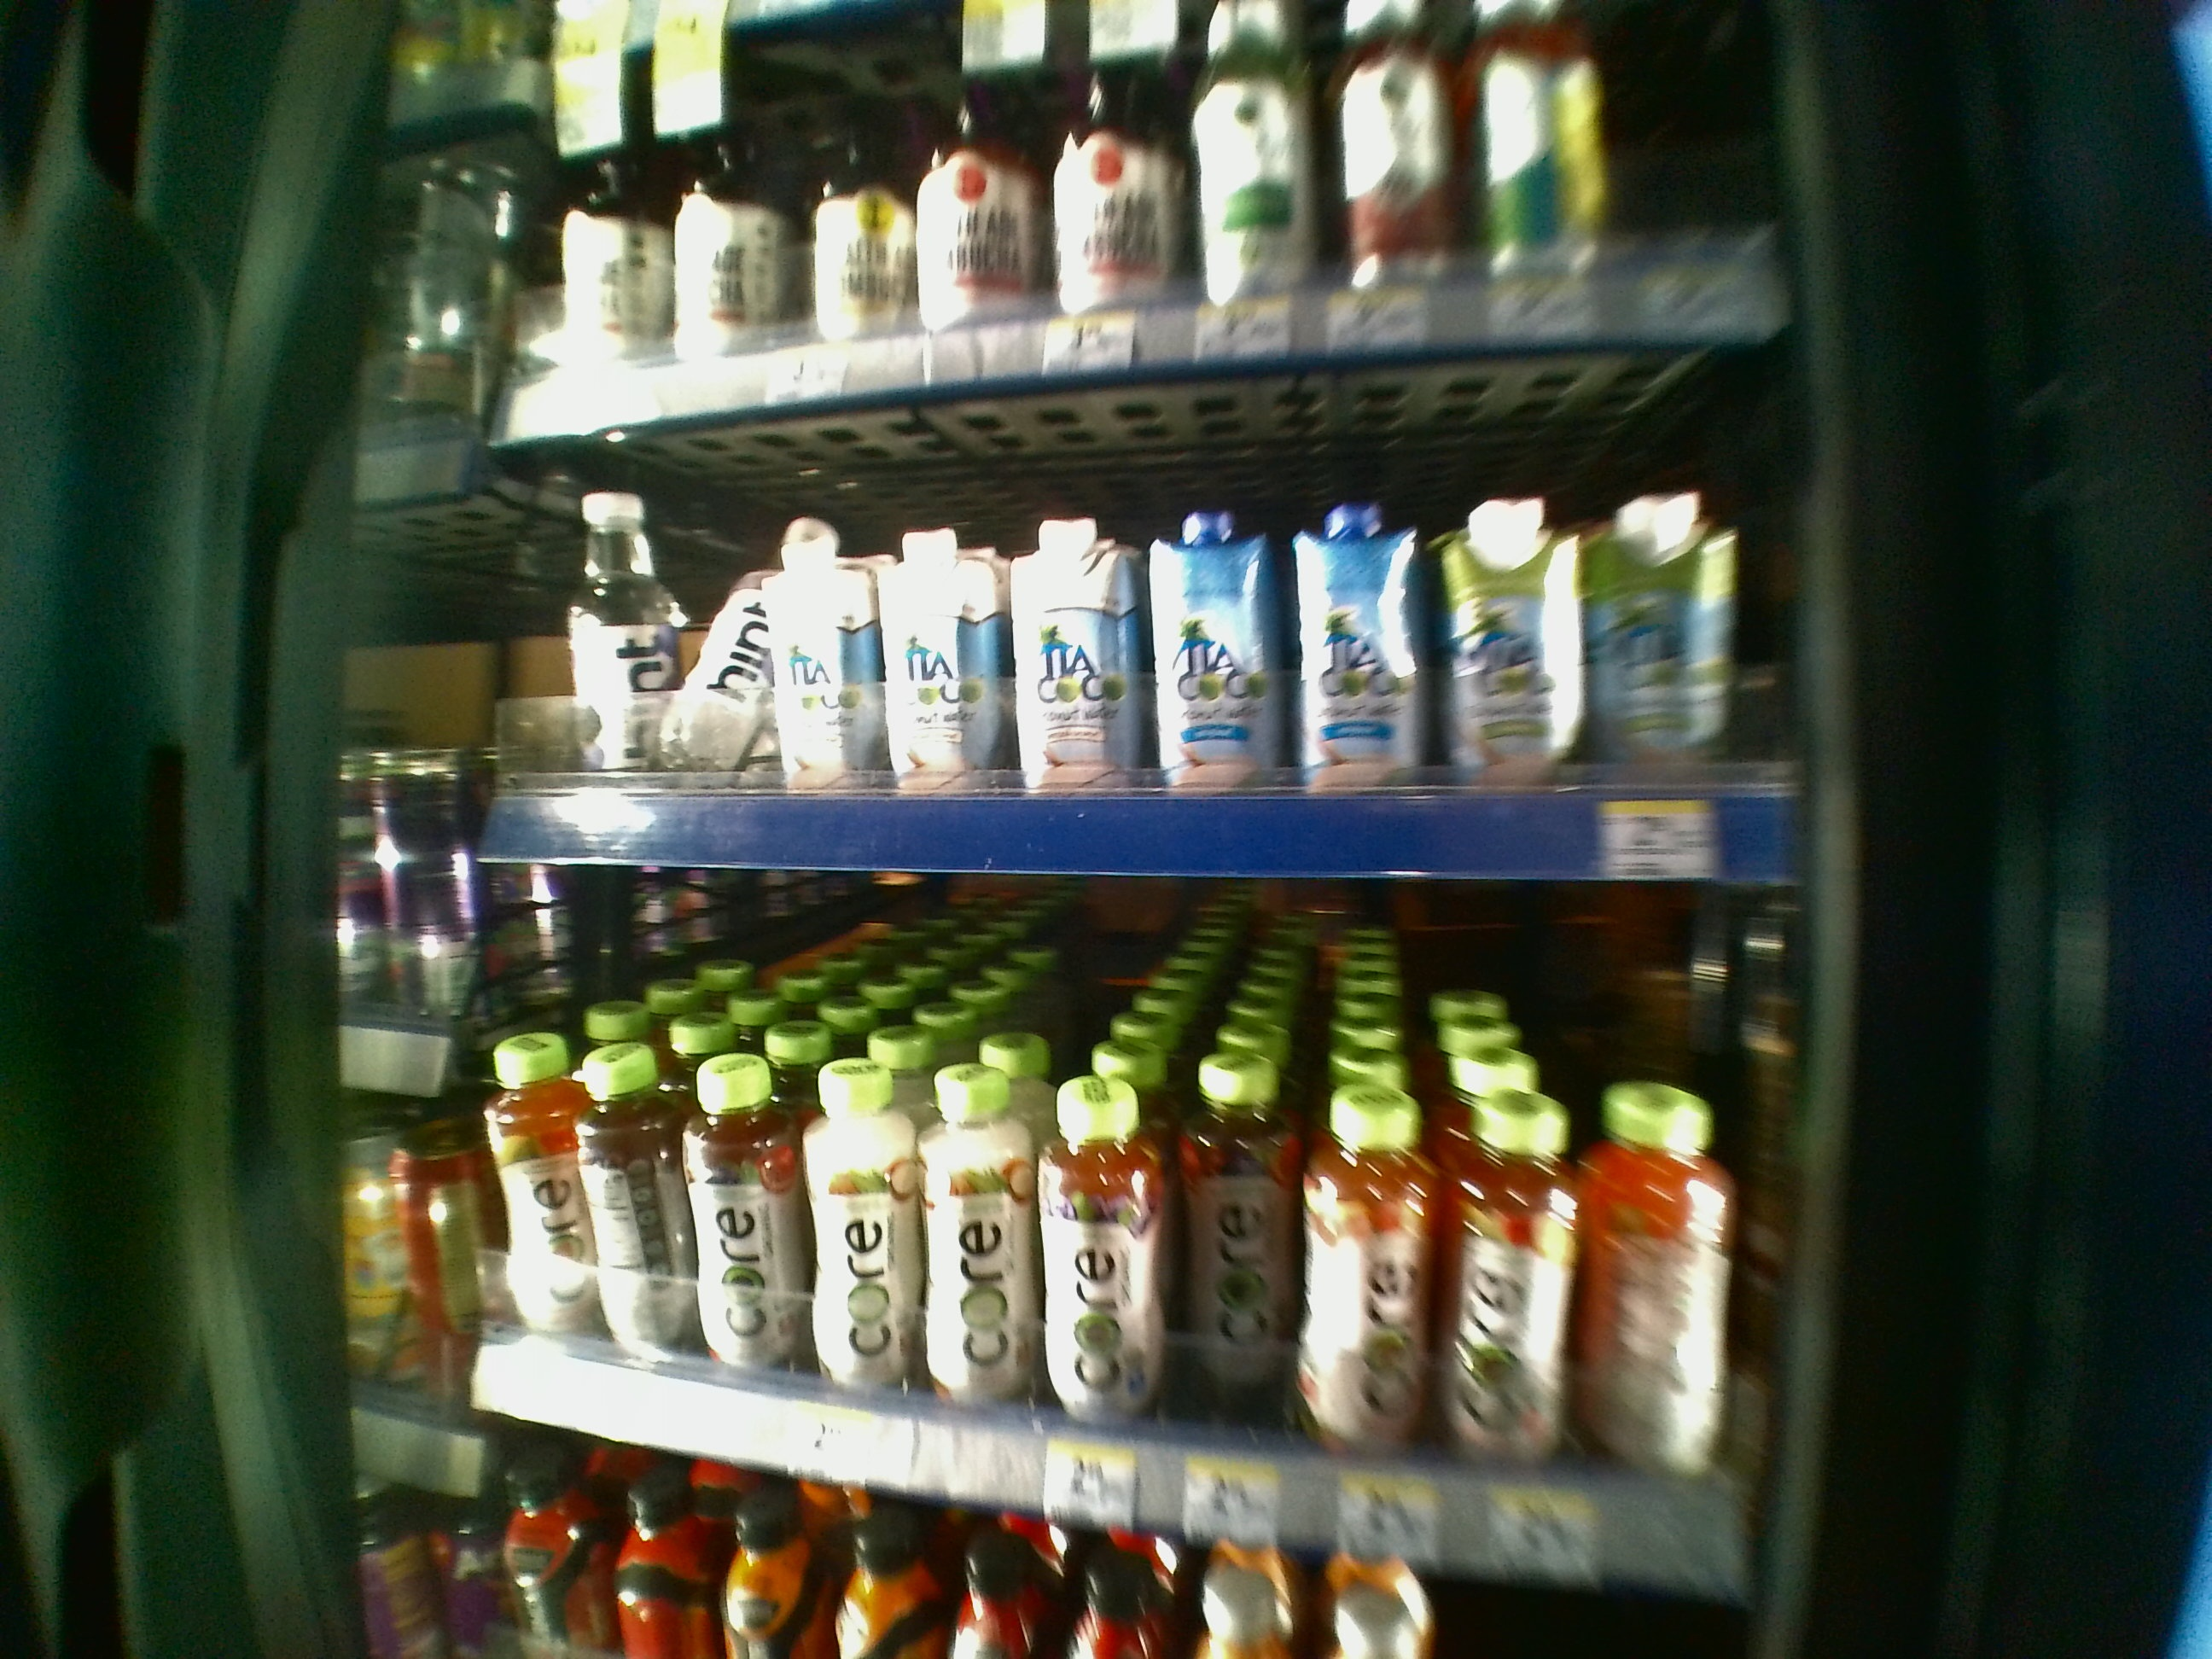shelf: (336, 416, 1815, 871)
